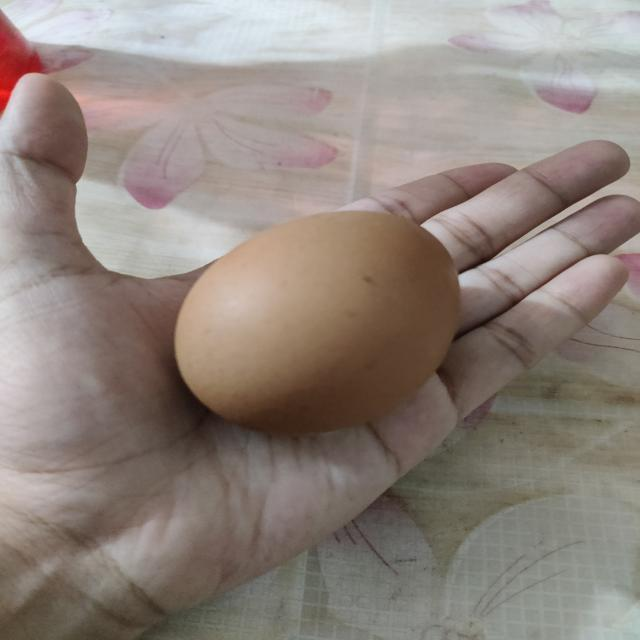egg: (174, 204, 472, 438)
